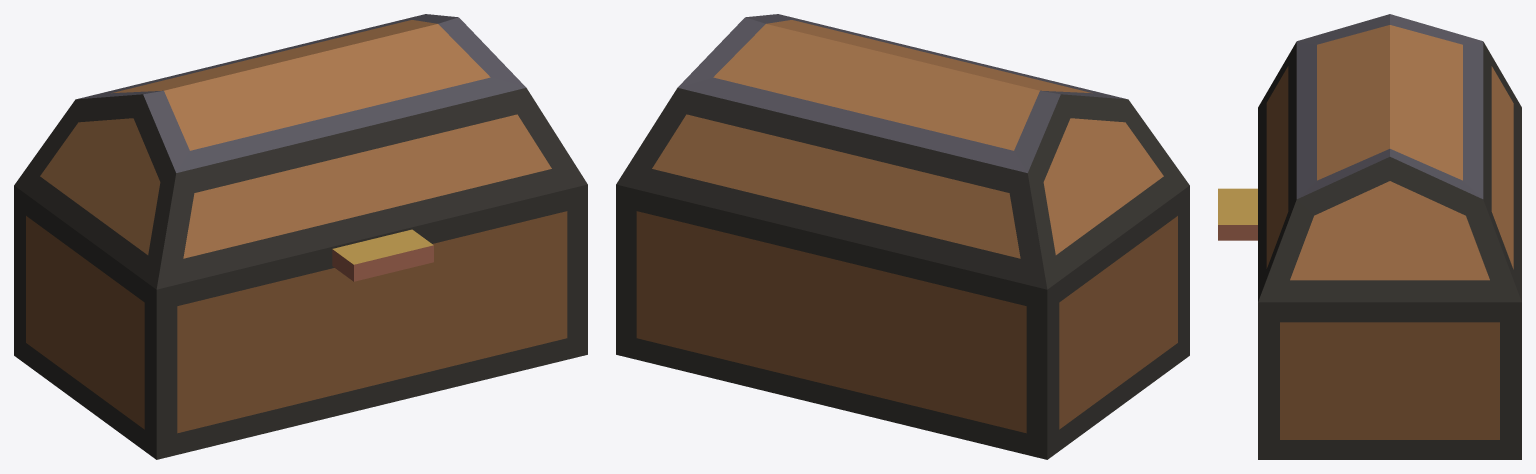
The model's file is TB_D_Prop_ChestC_B.FBX.
3 views of the same model, side by side, from view 1: azimuth 30°, elevation 25°; view 2: azimuth 150°, elevation 25°; view 3: azimuth 270°, elevation 25° (orthographic). The views are drawn at different scales.
Parts seen in each view (by area): view 1: TB_D_Prop_ChestC_B; view 2: TB_D_Prop_ChestC_B; view 3: TB_D_Prop_ChestC_B.
Boxes of the visible parts, left/top/right/bottom form: TB_D_Prop_ChestC_B: left=14, top=14, right=587, bottom=459; TB_D_Prop_ChestC_B: left=616, top=14, right=1189, bottom=459; TB_D_Prop_ChestC_B: left=1218, top=14, right=1521, bottom=459.
Size of the model in its own units: 1.05 by 0.6939 by 0.6895.
